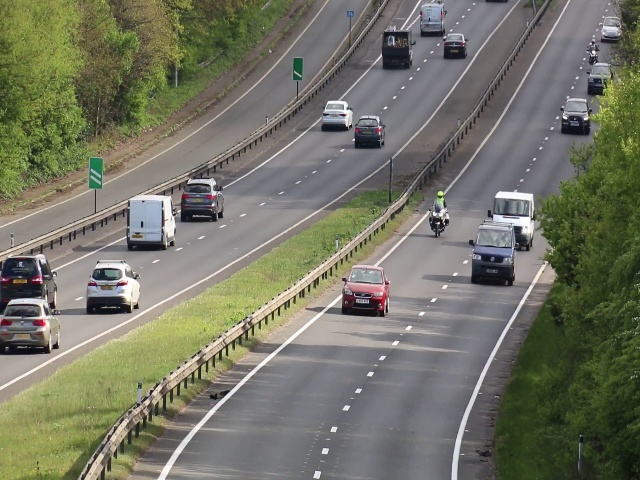car: (1, 254, 59, 317), (1, 299, 64, 357), (85, 258, 141, 314), (472, 223, 516, 289), (124, 196, 177, 248), (341, 261, 391, 316), (180, 176, 228, 222), (492, 188, 536, 226), (379, 29, 419, 67), (559, 95, 591, 136), (354, 113, 384, 147), (322, 99, 354, 129), (586, 63, 614, 92), (420, 5, 444, 37), (443, 32, 467, 58), (601, 15, 621, 44)
